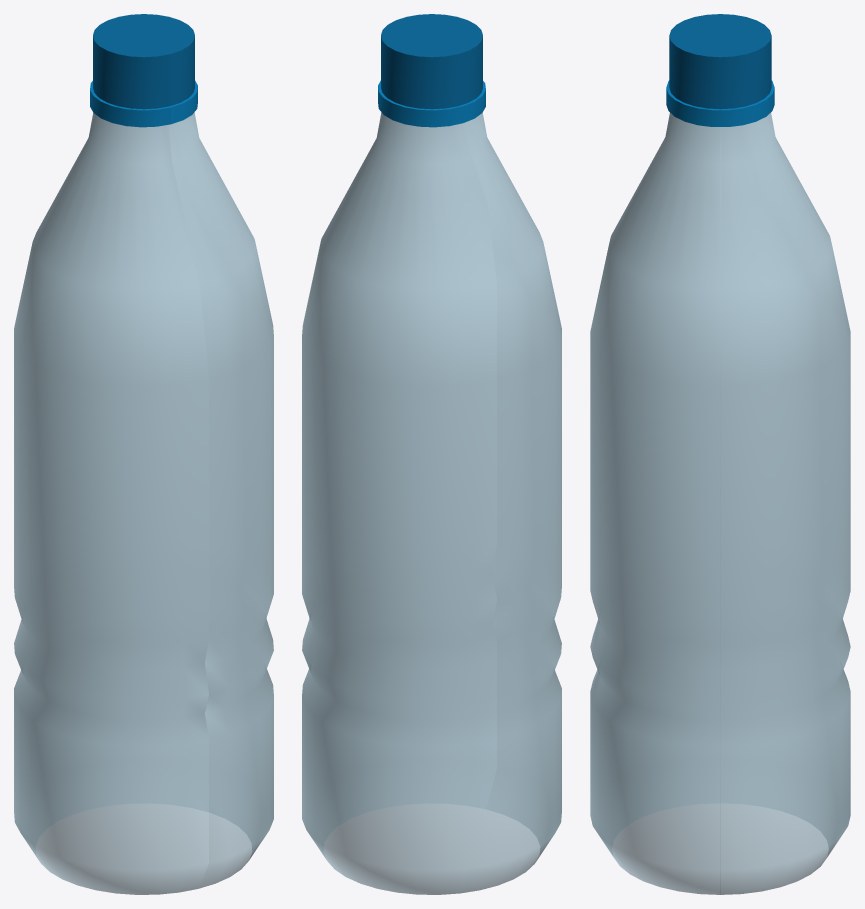
The model's file is water-bottle.glb.
The picture shows the model from 3 angles, left to right: view 1: azimuth 30°, elevation 25°; view 2: azimuth 150°, elevation 25°; view 3: azimuth 270°, elevation 25°; orthographic projection.
Parts seen in each view (by area): view 1: Water_Body, Water_Cap, Water_Collar; view 2: Water_Body, Water_Cap, Water_Collar; view 3: Water_Body, Water_Cap, Water_Collar.
Boxes of the visible parts, <box> form: Water_Body: <box>14,112,273,894</box>; Water_Cap: <box>93,14,194,109</box>; Water_Collar: <box>90,80,197,127</box>; Water_Body: <box>302,112,561,894</box>; Water_Cap: <box>381,14,482,109</box>; Water_Collar: <box>378,80,485,127</box>; Water_Body: <box>590,113,850,894</box>; Water_Cap: <box>669,14,771,109</box>; Water_Collar: <box>666,80,774,126</box>.
Size of the model in its own units: 0.084 by 0.2895 by 0.084.
